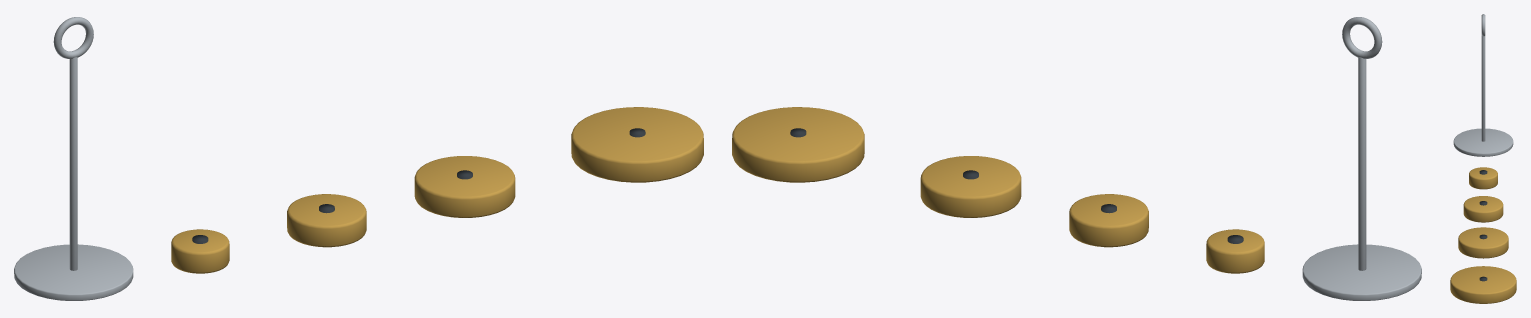
Rendered from Mass_Set.fbx.
3 views of the same model, side by side, from view 1: azimuth 30°, elevation 25°; view 2: azimuth 150°, elevation 25°; view 3: azimuth 270°, elevation 25° (orthographic). The views are drawn at different scales.
Parts seen in each view (by area): view 1: Mass_500g, MassHangerTray, Mass_200g, Mass_100g, Mass_50g, MassHangerStem, MassHangerHook; view 2: Mass_500g, MassHangerTray, Mass_200g, Mass_100g, Mass_50g, MassHangerStem, MassHangerHook; view 3: Mass_500g, MassHangerTray, Mass_200g, Mass_100g, Mass_50g, MassHangerStem, MassHangerHook.
Part boxes in pixels (left/top/right/bottom): Mass_500g: left=571, top=107, right=703, bottom=182; MassHangerTray: left=14, top=244, right=133, bottom=300; Mass_200g: left=414, top=156, right=515, bottom=217; Mass_100g: left=287, top=194, right=366, bottom=247; Mass_50g: left=171, top=229, right=229, bottom=273; MassHangerStem: left=69, top=57, right=77, bottom=270; MassHangerHook: left=53, top=17, right=93, bottom=58; Mass_500g: left=732, top=107, right=864, bottom=182; MassHangerTray: left=1302, top=244, right=1421, bottom=300; Mass_200g: left=920, top=156, right=1021, bottom=217; Mass_100g: left=1069, top=194, right=1148, bottom=247; Mass_50g: left=1206, top=229, right=1264, bottom=273; MassHangerStem: left=1358, top=57, right=1366, bottom=270; MassHangerHook: left=1342, top=17, right=1382, bottom=58; Mass_500g: left=1450, top=266, right=1516, bottom=303; MassHangerTray: left=1453, top=128, right=1513, bottom=156; Mass_200g: left=1458, top=227, right=1508, bottom=258; Mass_100g: left=1463, top=196, right=1503, bottom=222; Mass_50g: left=1469, top=167, right=1497, bottom=189; MassHangerStem: left=1481, top=36, right=1485, bottom=141; MassHangerHook: left=1481, top=14, right=1485, bottom=36.
Size of the model in its own units: 0.585 by 0.231 by 0.1.
